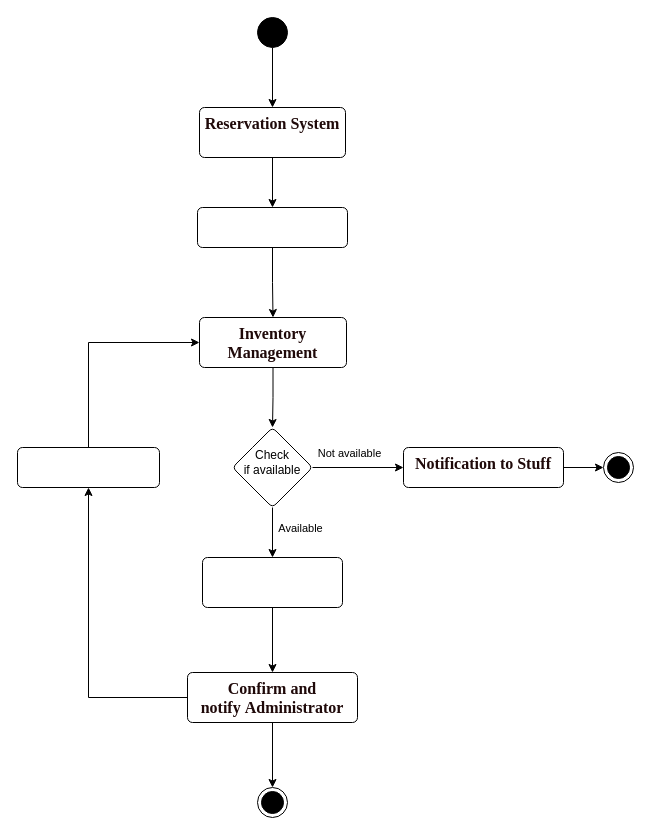
This 651x835 diagram has some shape labels left out. The centre of each missing label's shape, as x and y in pixels:
Enter Reservation Details: pixel 272 582
Selete Equipment: pixel 272 227
Update Inventory: pixel 88 467
